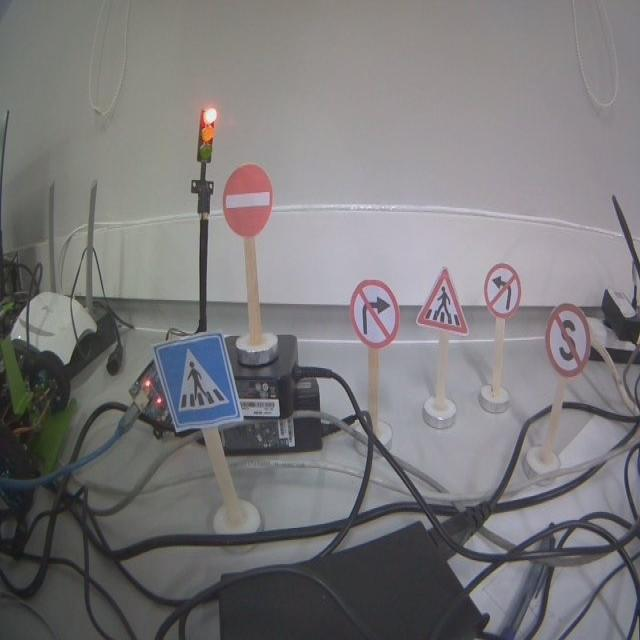Dilarang Belok Kanan: (350, 280, 398, 347)
Dilarang Belok Kiri: (484, 263, 522, 316)
Dilarang Masuk: (222, 164, 273, 237)
Lampu Merah: (197, 108, 216, 163)
Rambu Berhenti: (544, 303, 590, 377)
Rambu Penyebrangan: (154, 330, 244, 430), (416, 268, 469, 337)
